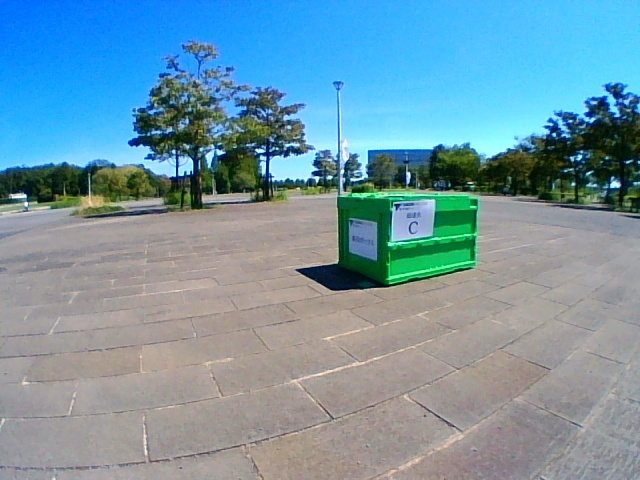green_box: (338, 193, 479, 285)
tag_c: (400, 210, 425, 236)
